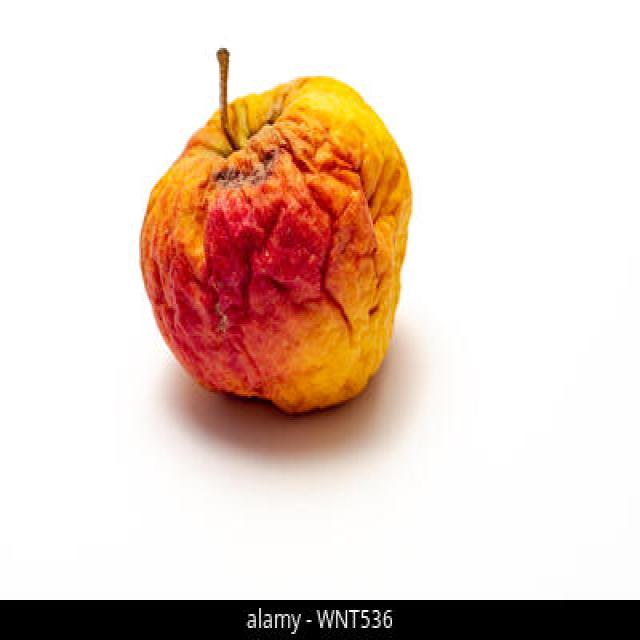overripe: (141, 75, 416, 418)
